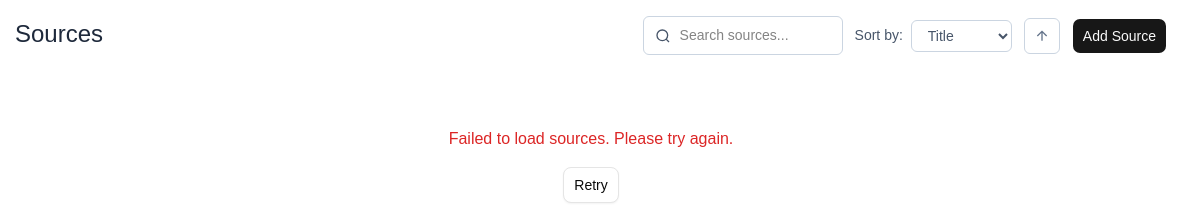
Sources page › shows a load failure as an error with Retry, not as an empty list
Expected: the message shows "Failed to load sources", [449, 130, 733, 147]
Expected: the text "No sources found." is not shown
What coordinates should you click on to do the following:
click the button "Retry"
I would click on:
 (591, 185)
Its box is [563, 167, 619, 203].
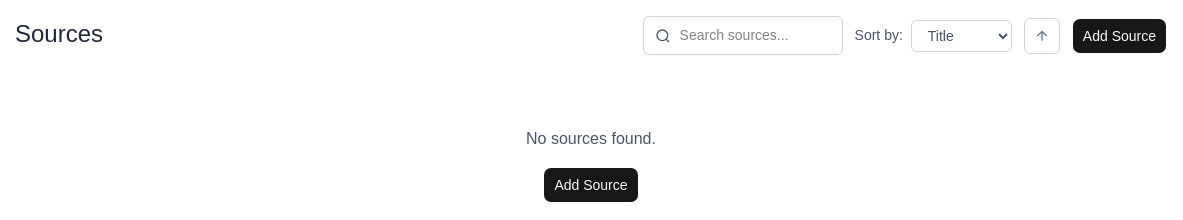
Result: the text "No sources found." is shown at [526, 130, 656, 147]
